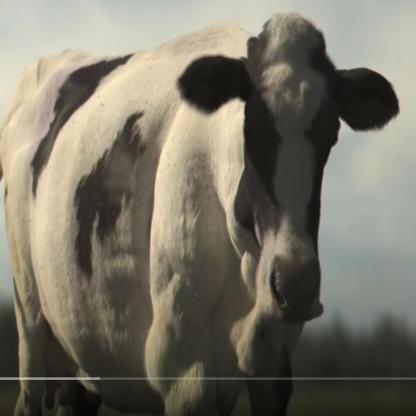cow: (0, 12, 399, 416)
